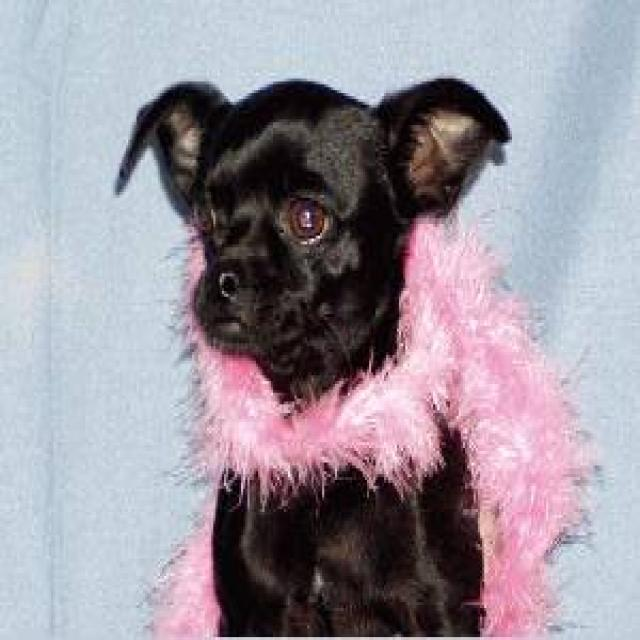dog-chihuahua: (102, 67, 525, 410)
